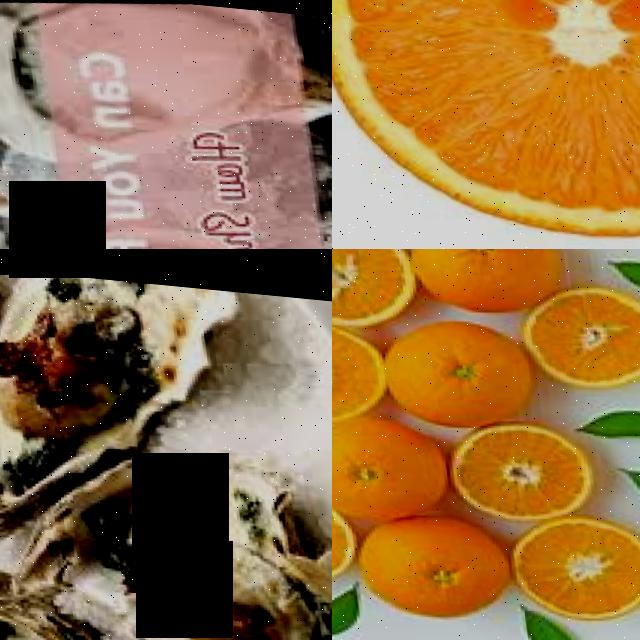orange: (332, 0, 640, 249), (372, 299, 537, 425), (350, 499, 514, 624), (500, 495, 640, 624), (438, 403, 591, 516), (529, 264, 640, 386), (332, 401, 441, 512), (402, 249, 560, 306), (332, 306, 382, 427), (332, 249, 412, 324)
oysters: (0, 259, 250, 519), (67, 442, 332, 640)
